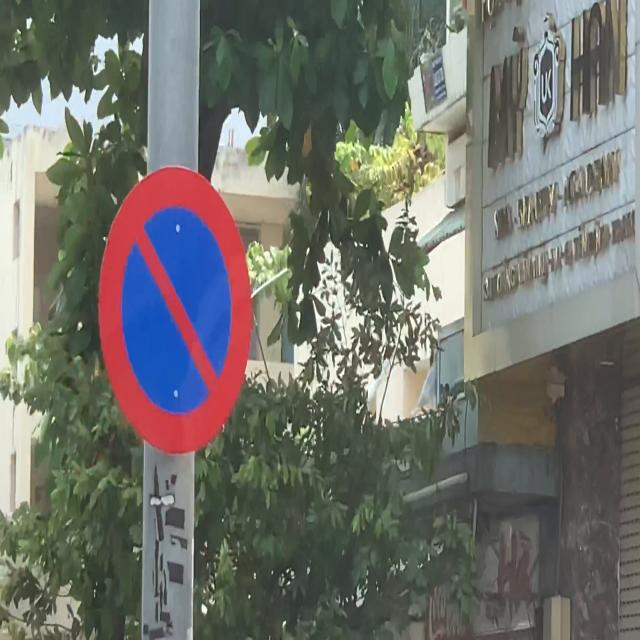Cam do: (98, 165, 253, 456)
